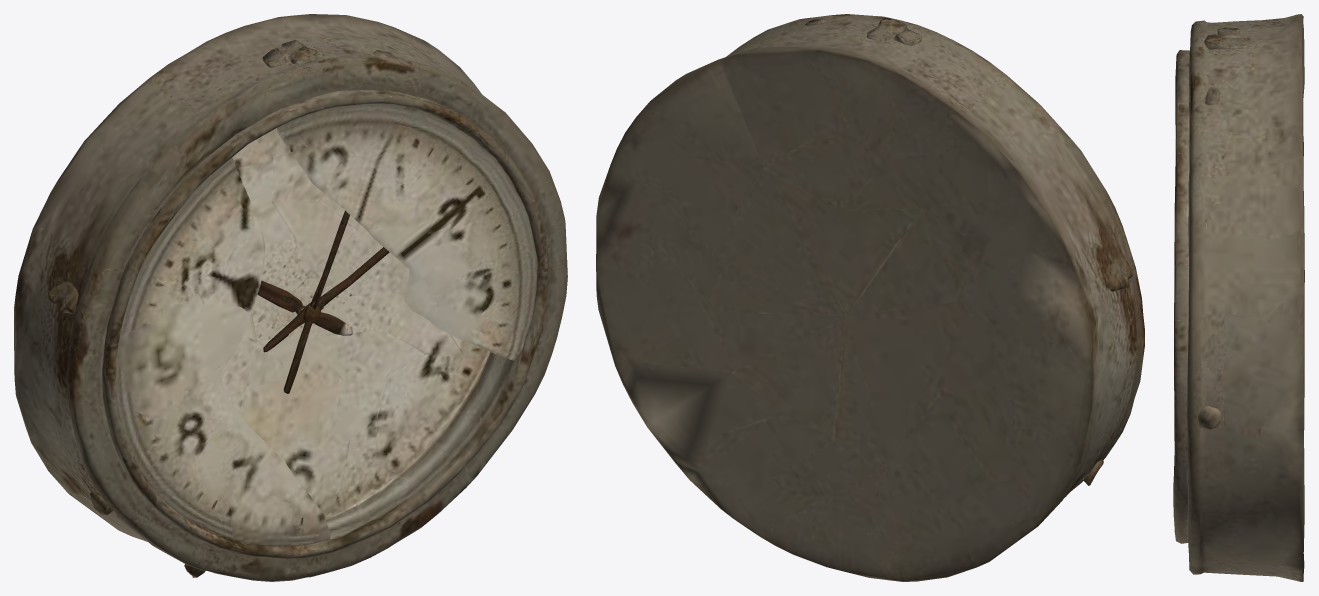
File: clock.glb
The picture shows the model from 3 angles, left to right: view 1: azimuth 30°, elevation 25°; view 2: azimuth 150°, elevation 25°; view 3: azimuth 270°, elevation 25°; orthographic projection.
Bounding box in the file's own units: 1 × 0.9995 × 0.2316.
Materials: 1 (1 with a texture image).
